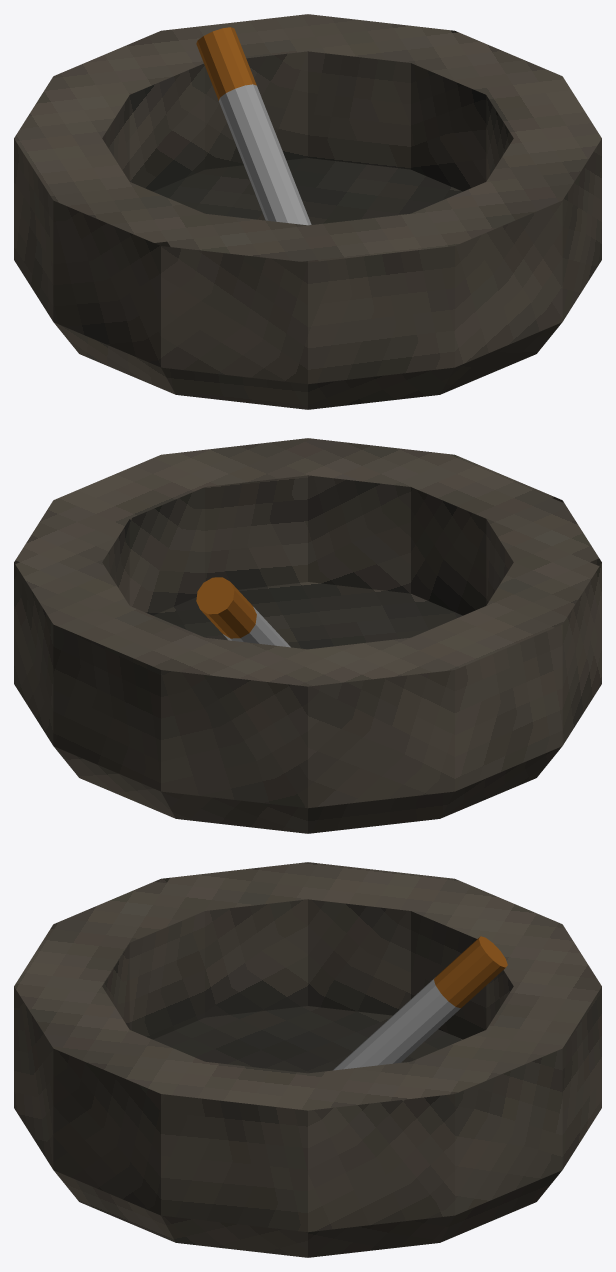
The model's file is popielniczka.fbx.
3 renders of one model, top to bottom at view 1: azimuth 30°, elevation 25°; view 2: azimuth 150°, elevation 25°; view 3: azimuth 270°, elevation 25°, orthographic.
Visible parts, largest first — view 1: popielniczka, main_szlug; view 2: popielniczka, main_szlug; view 3: popielniczka, main_szlug.
Part boxes in pixels (x1,y1,x2,y2): popielniczka: [14, 14, 601, 409]; main_szlug: [196, 27, 311, 225]; popielniczka: [14, 438, 601, 833]; main_szlug: [196, 577, 290, 647]; popielniczka: [14, 862, 601, 1257]; main_szlug: [332, 936, 507, 1070].
Bounding box in the file's own units: 2.8 × 1.21 × 2.8.
Materials: 3 (3 with a texture image).
